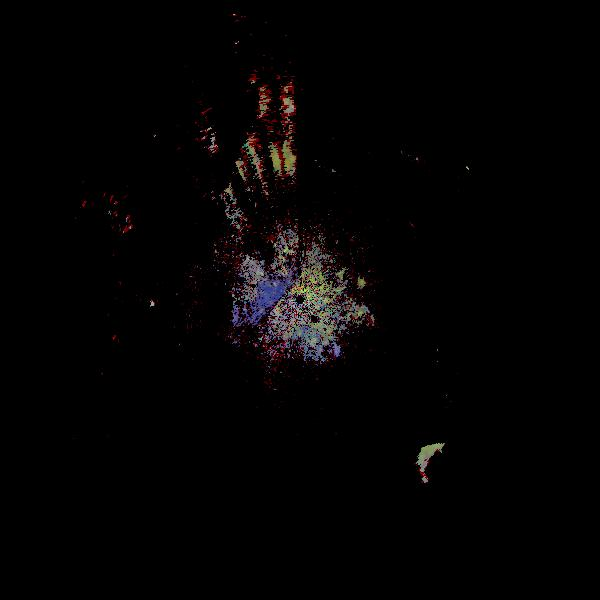roost: (408, 424, 495, 511)
